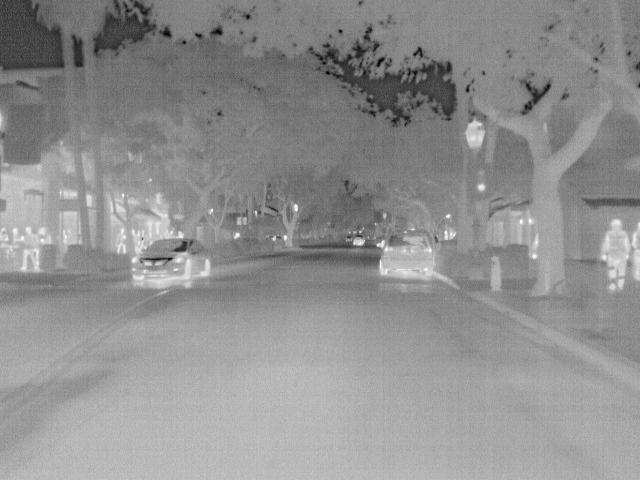car: (129, 237, 212, 282), (378, 230, 440, 278), (351, 232, 364, 246)
person: (598, 219, 632, 292), (18, 227, 43, 274), (114, 226, 130, 256)
